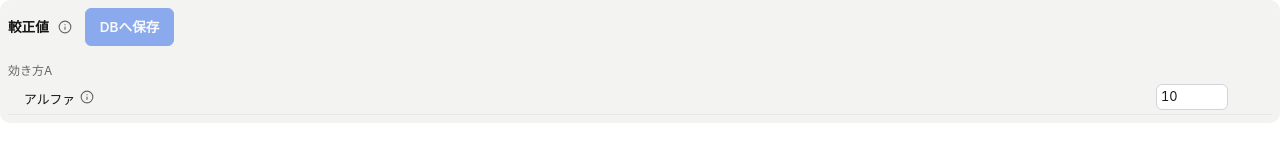
TuningPanel › 保存に失敗したら理由を出し、打った値は残す（読み込み直しの口は出さない）。直して保存し直せる
The image size is (1280, 167).
Check: the button "DBへ保存" is shown, box x1=85 y1=8 x2=174 y2=46
Replace the text in the number field named "アルファ" with "999" at (1192, 97), box x1=1156 y1=84 x2=1228 y2=110
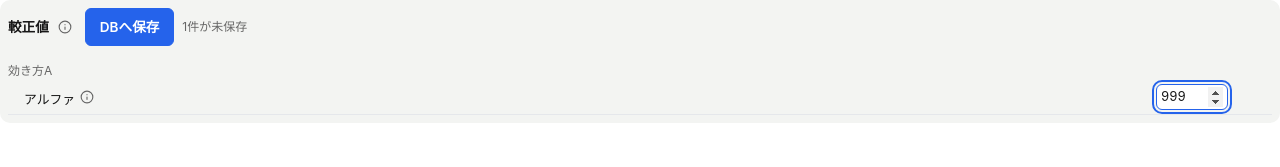
Click the button "DBへ保存" at (130, 27), box x1=85 y1=8 x2=174 y2=46
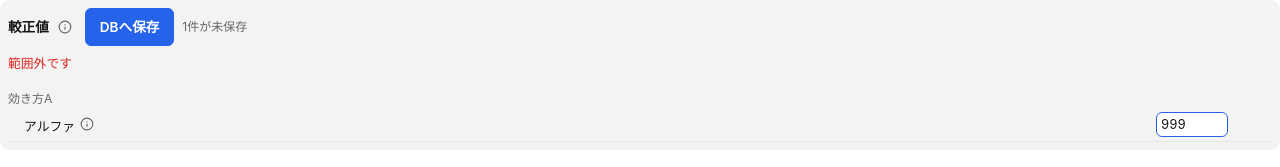
Check: the text "1件が未保存" is shown, box x1=182 y1=18 x2=247 y2=36
Check: the text "範囲外です" is shown, box x1=8 y1=56 x2=72 y2=71
Replace the text in the number field named "アルファ" with "50" at (1192, 124), box x1=1156 y1=112 x2=1228 y2=137
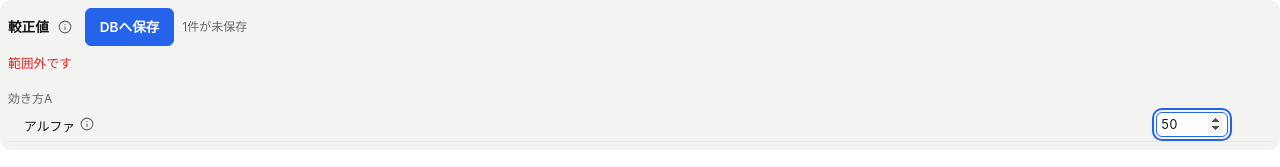
Click the button "DBへ保存" at (130, 27), box x1=85 y1=8 x2=174 y2=46
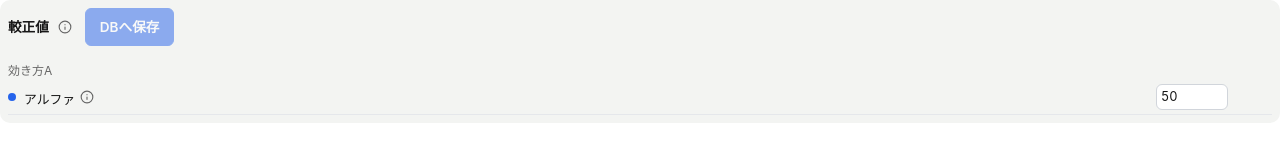
Check: the text "範囲外です" is gone
